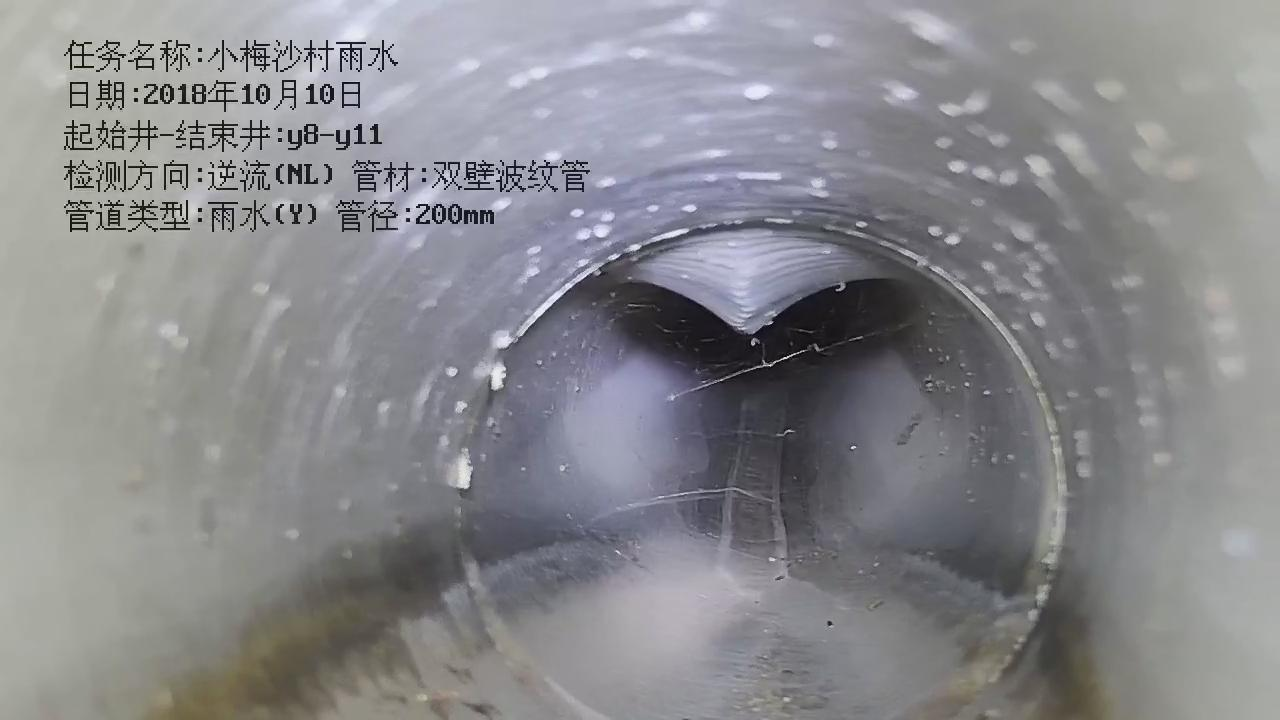BX: (587, 200, 940, 350)
